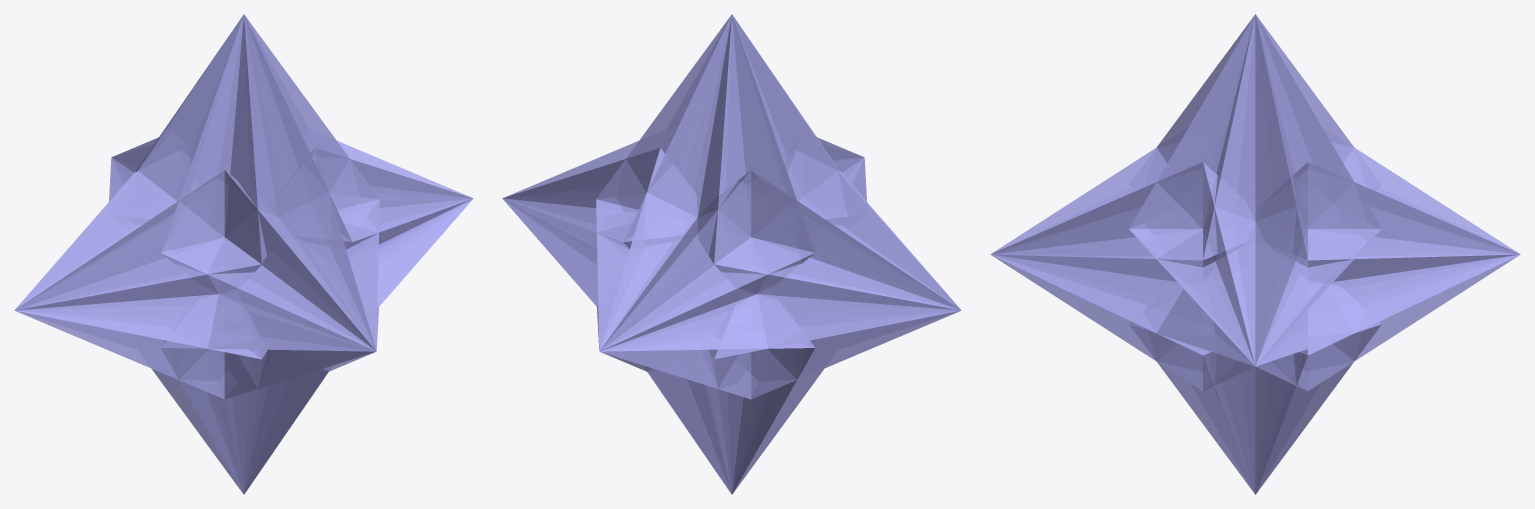
The model's file is 22_Octaugmented_Quith.obj.
3 renders of one model, left to right at view 1: azimuth 30°, elevation 25°; view 2: azimuth 150°, elevation 25°; view 3: azimuth 270°, elevation 25°, orthographic.
Bounding box in the file's own units: 2.1 × 2.1 × 2.1.
